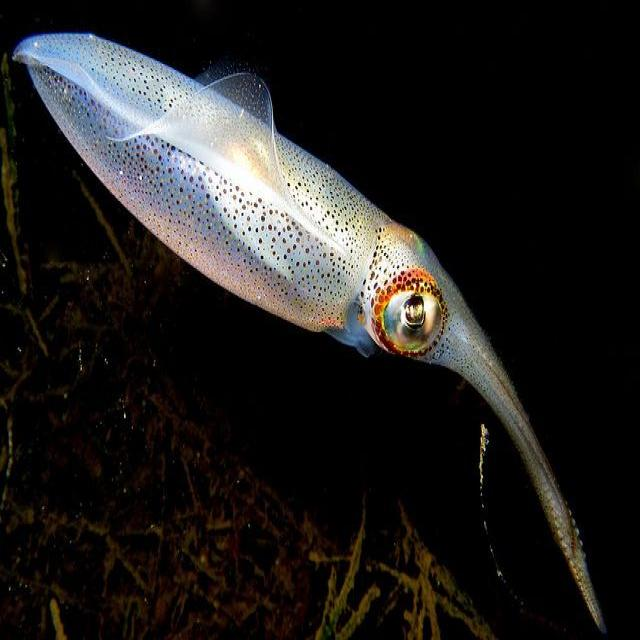SQUID: (9, 10, 640, 613)
